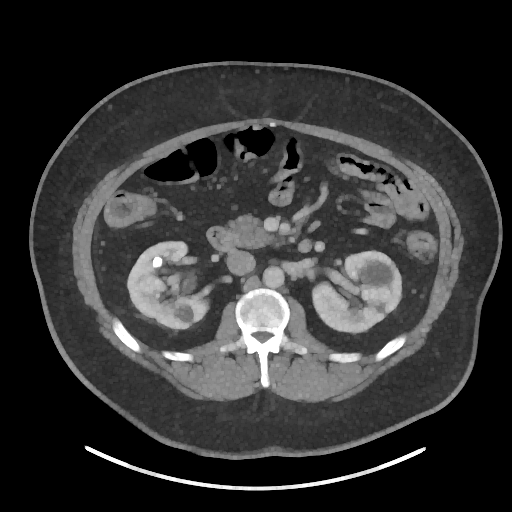Lesion: (350, 259, 395, 287)
